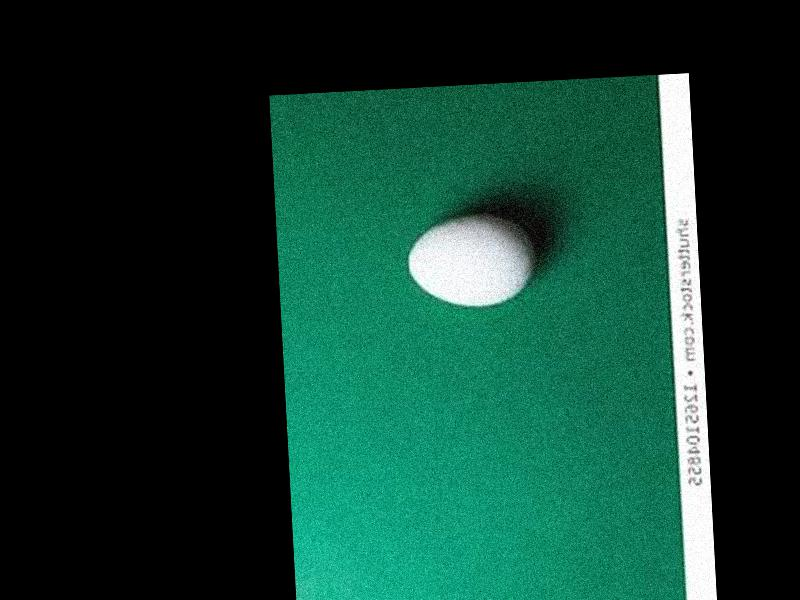Eggs: (407, 215, 538, 313)
